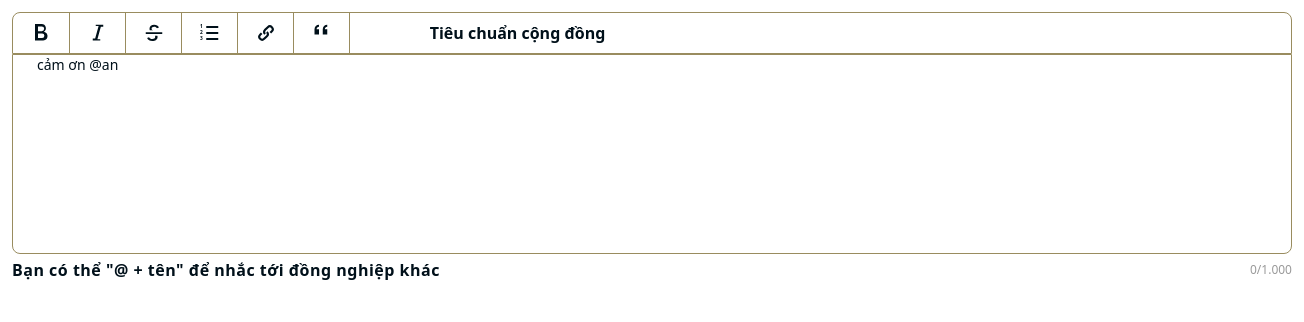
it: RichTextEditor › closes the mention popup on blur
Clear the field at (652, 154), box [12,54,1292,254]
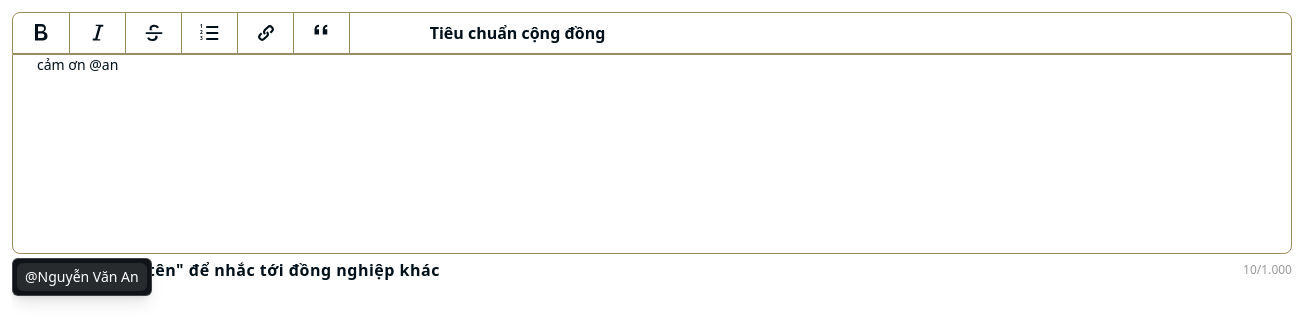
expect the option "@Nguyễn Văn An" is shown: met, box [17,263,147,291]
Leave the field
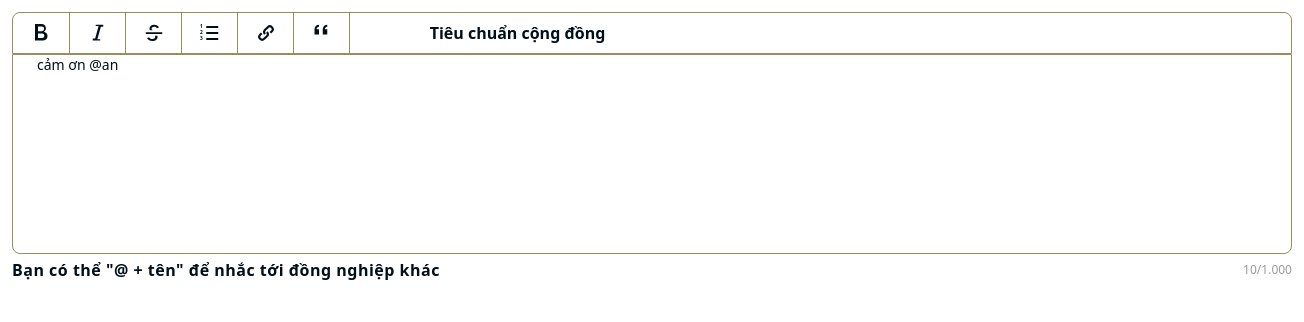
expect the option "@Nguyễn Văn An" is gone: met
